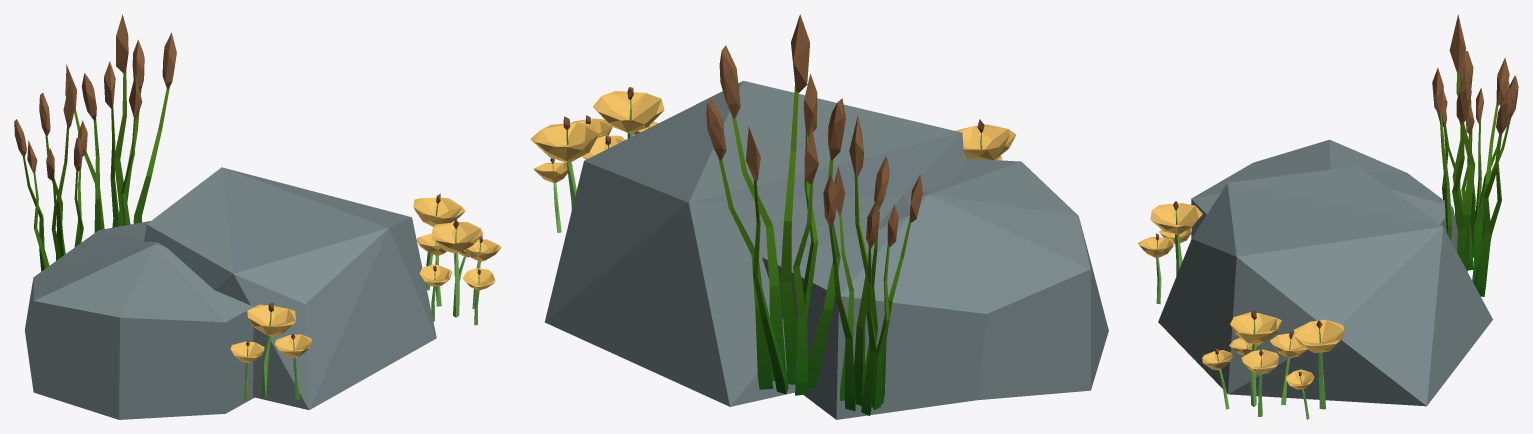
The model's file is Rock_08.fbx.
3 views of the same model, side by side, from view 1: azimuth 30°, elevation 25°; view 2: azimuth 150°, elevation 25°; view 3: azimuth 270°, elevation 25° (orthographic). The views are drawn at different scales.
Visible parts, largest first — view 1: Rock_08; view 2: Rock_08; view 3: Rock_08.
Boxes of the visible parts, box(x1,y1,x2,y2) form: Rock_08: box(14, 14, 501, 419); Rock_08: box(530, 14, 1108, 419); Rock_08: box(1137, 14, 1518, 419).
Size of the model in its own units: 112 by 78.25 by 86.51.
